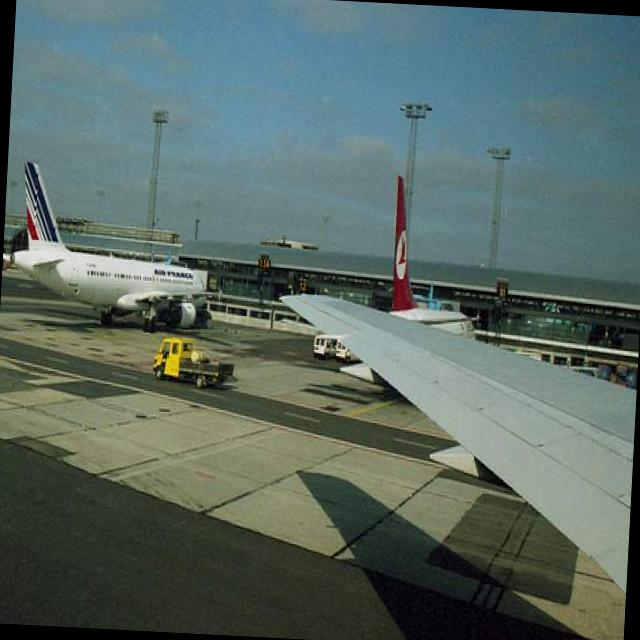Vehicle: (152, 336, 235, 389)
